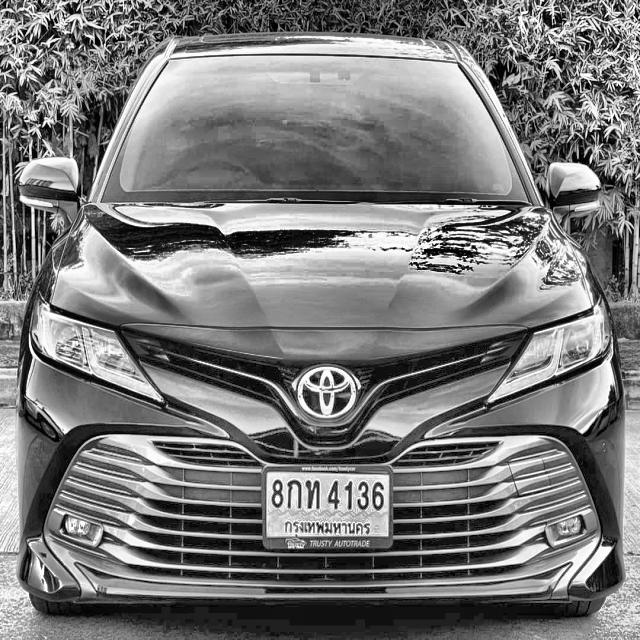license-plate: (260, 462, 394, 554)
